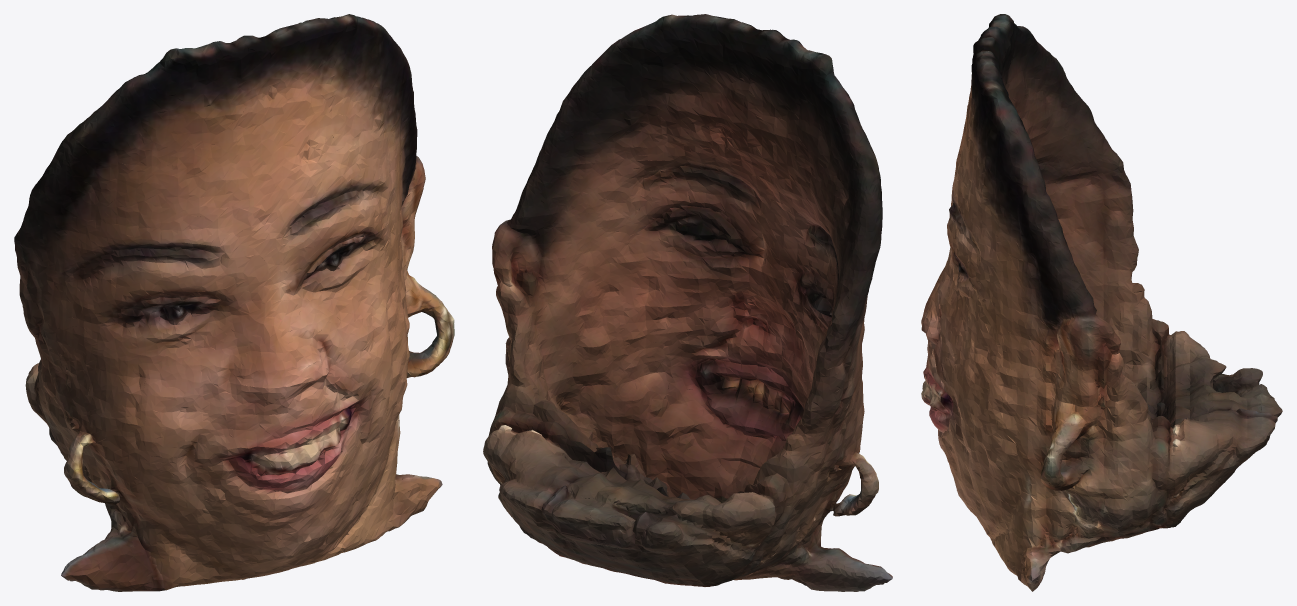
Rendered from a-hug-from-my-wife.glb.
3 renders of one model, left to right at view 1: azimuth 30°, elevation 25°; view 2: azimuth 150°, elevation 25°; view 3: azimuth 270°, elevation 25°, orthographic. The views are drawn at different scales.
Visible parts, largest first — view 1: geometry_0; view 2: geometry_0; view 3: geometry_0.
Boxes of the visible parts, box(x1,y1,x2,y2) form: geometry_0: box(14, 14, 454, 591); geometry_0: box(483, 14, 892, 591); geometry_0: box(921, 14, 1282, 591).
Bounding box in the file's own units: 0.7691 × 0.997 × 0.6862.
1 material, 1 textured.
